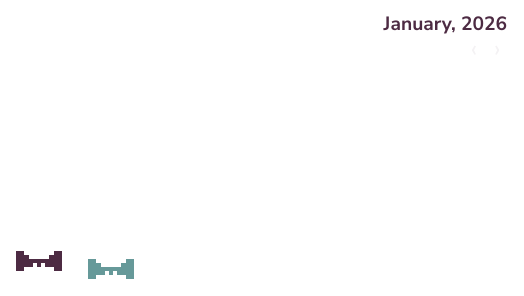
Test case: GitHubContributions › hover tooltip › shows the date and count for the hovered bird
Hover over the picture named "2026-01-02: 5 contributions".
mouse_move(112, 269)  # box [88,259,134,280]
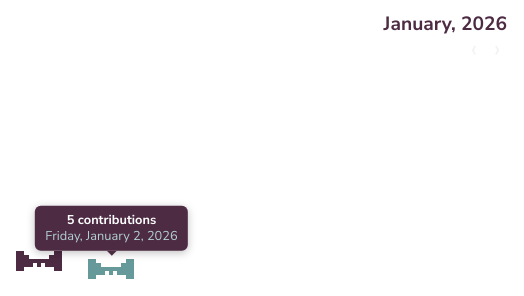
Expected: the tooltip shows "5 contributions", [67,210,156,228]
Expected: the tooltip shows "Friday, January 2, 2026", [45,227,178,245]
